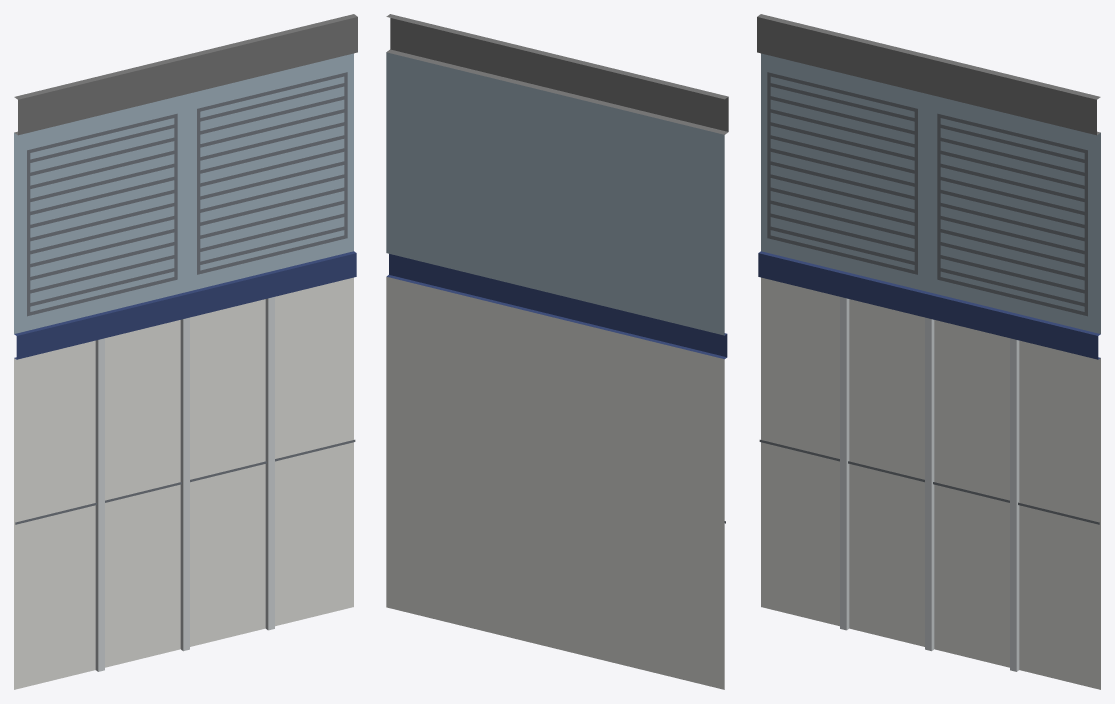
Rendered from top-w1_close.fbx.
The picture shows the model from 3 angles, left to right: view 1: azimuth 30°, elevation 25°; view 2: azimuth 150°, elevation 25°; view 3: azimuth 330°, elevation 25°; orthographic projection.
Parts seen in each view (by area): view 1: a1028/0/top-w1_close; view 2: a1028/0/top-w1_close; view 3: a1028/0/top-w1_close.
Boxes of the visible parts, box(x1,y1,x2,y2) form: a1028/0/top-w1_close: box(14, 14, 357, 689); a1028/0/top-w1_close: box(386, 14, 728, 689); a1028/0/top-w1_close: box(757, 14, 1100, 689).
Bounding box in the file's own units: 6 × 10 × 0.12.
